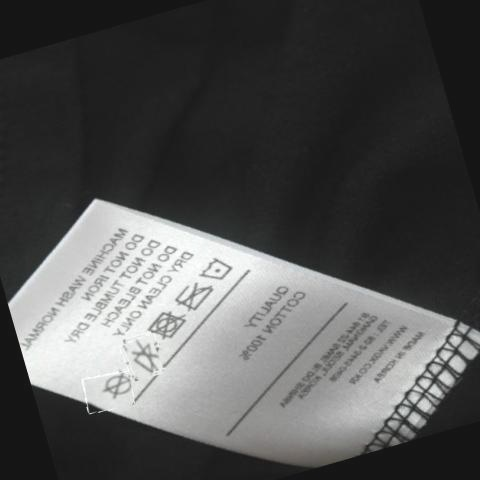30C: (201, 256, 230, 281)
DN_bleach: (125, 342, 158, 374)
DN_dry_clean: (102, 373, 133, 400)
DN_iron: (173, 283, 209, 312)
DN_tumble_dry: (146, 309, 184, 339)
